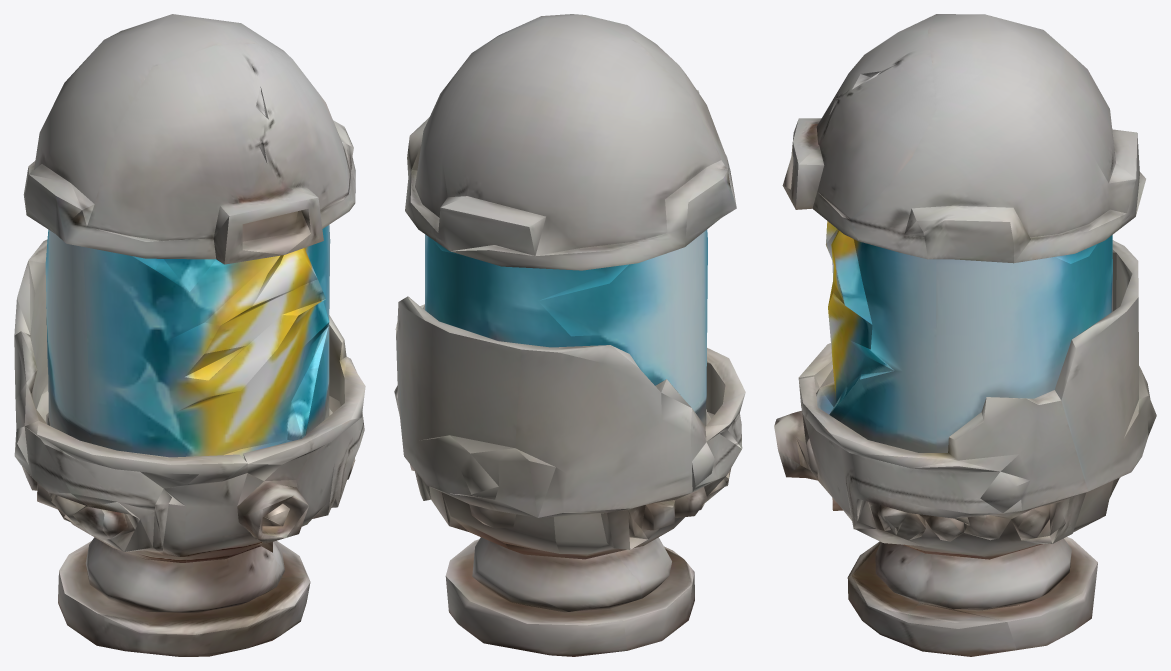
The model's file is m2EnergyPickup.glb.
3 views of the same model, side by side, from view 1: azimuth 30°, elevation 25°; view 2: azimuth 150°, elevation 25°; view 3: azimuth 270°, elevation 25° (orthographic).
Parts seen in each view (by area): view 1: model; view 2: model; view 3: model.
Boxes of the visible parts, bbox=[...] form: model: bbox=[14, 14, 365, 656]; model: bbox=[394, 14, 745, 656]; model: bbox=[774, 14, 1156, 656].
Size of the model in its own units: 1.08 by 1.89 by 1.13.
1 material, 1 textured.
